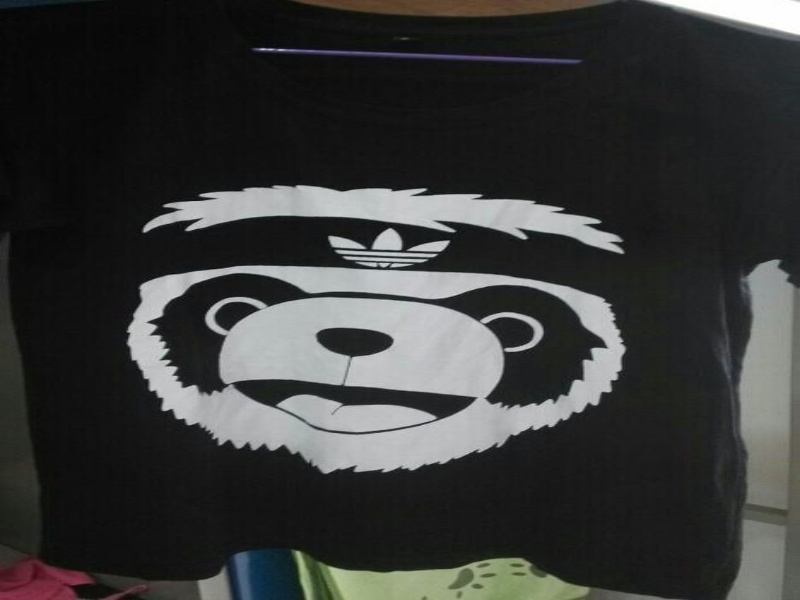short_sleeved_shirt: (2, 0, 797, 598)
